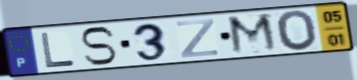3: (131, 21, 174, 63)
L: (38, 31, 77, 70)
M: (225, 12, 281, 57)
O: (274, 9, 320, 53)
S: (78, 25, 119, 67)
Z: (175, 17, 221, 60)
